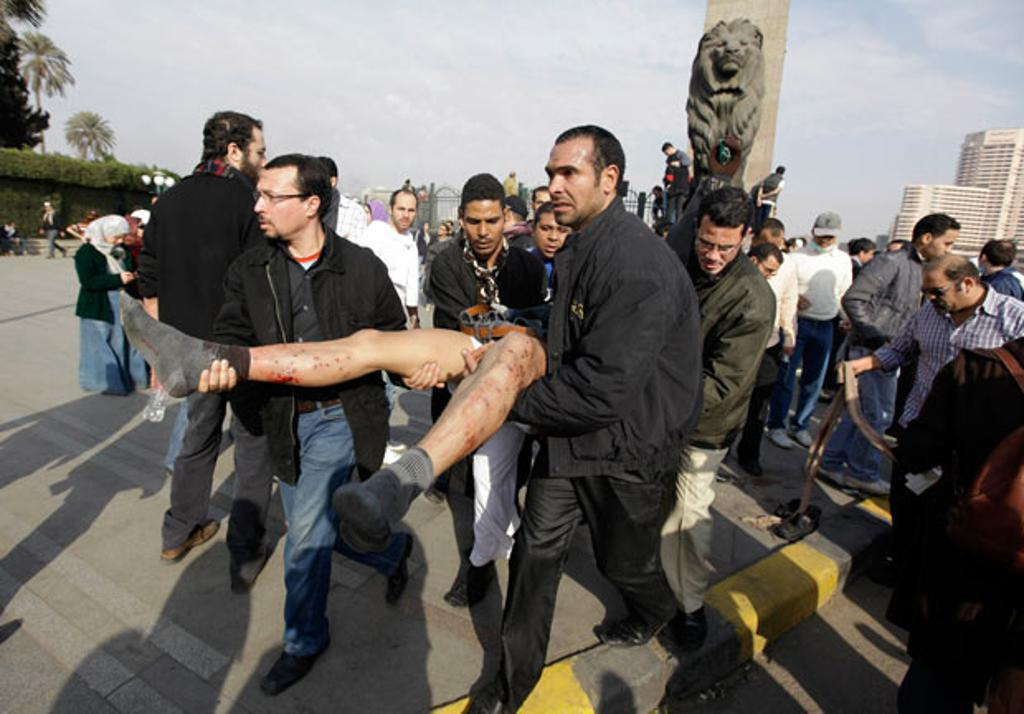face: (545, 145, 601, 224), (256, 173, 308, 238), (238, 123, 274, 182), (464, 201, 504, 253), (698, 225, 739, 275), (922, 275, 963, 314), (536, 214, 567, 253), (934, 227, 959, 259), (394, 195, 416, 228), (753, 260, 779, 284), (759, 233, 782, 257), (533, 193, 552, 216), (496, 203, 511, 232), (816, 229, 834, 247), (110, 231, 127, 247), (865, 245, 875, 262), (663, 148, 673, 157), (439, 226, 446, 236), (45, 205, 52, 212)
